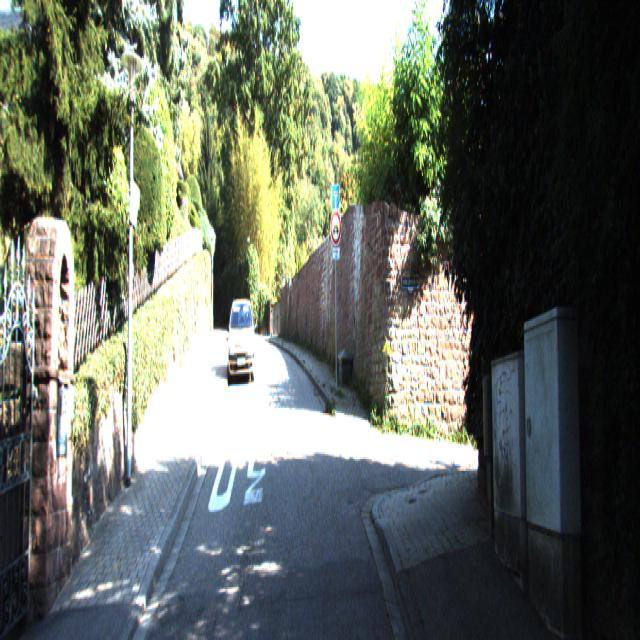Car: (228, 297, 255, 387), (230, 307, 252, 357)
